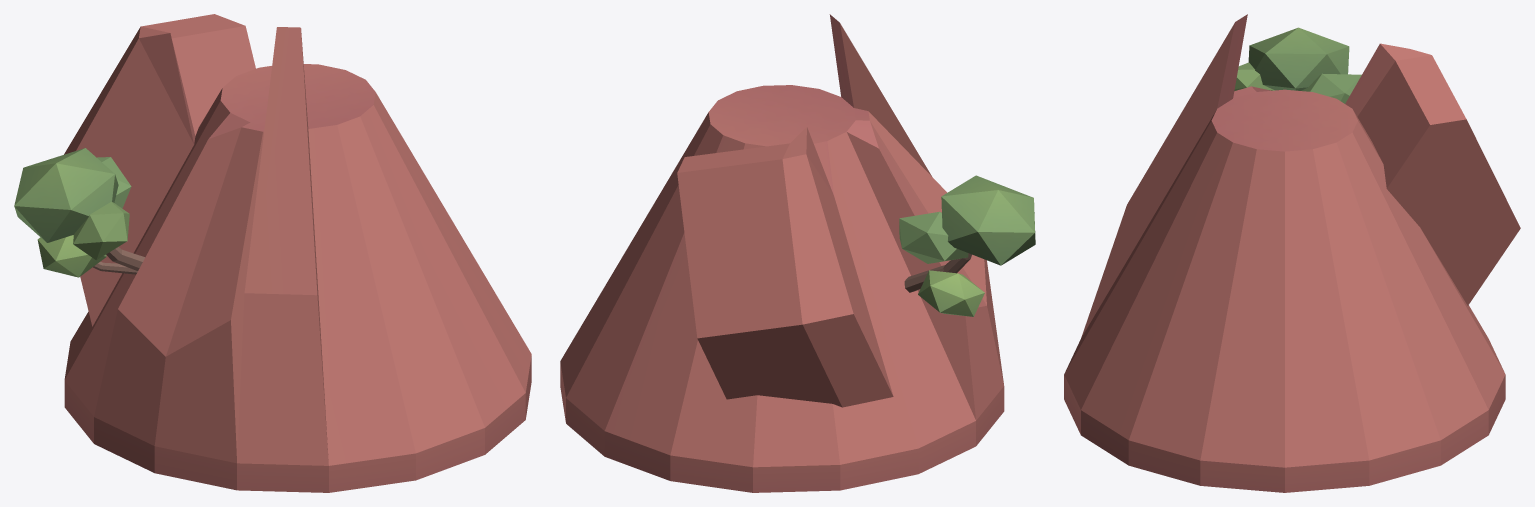
The model's file is Hill.fbx.
3 views of the same model, side by side, from view 1: azimuth 30°, elevation 25°; view 2: azimuth 150°, elevation 25°; view 3: azimuth 270°, elevation 25° (orthographic). The views are drawn at different scales.
Parts seen in each view (by area): view 1: Hill; view 2: Hill; view 3: Hill.
Boxes of the visible parts, bbox=[...] form: Hill: bbox=[14, 14, 531, 492]; Hill: bbox=[560, 14, 1035, 492]; Hill: bbox=[1064, 14, 1520, 492].
Bounding box in the file's own units: 7.59 × 5.93 × 6.69.
